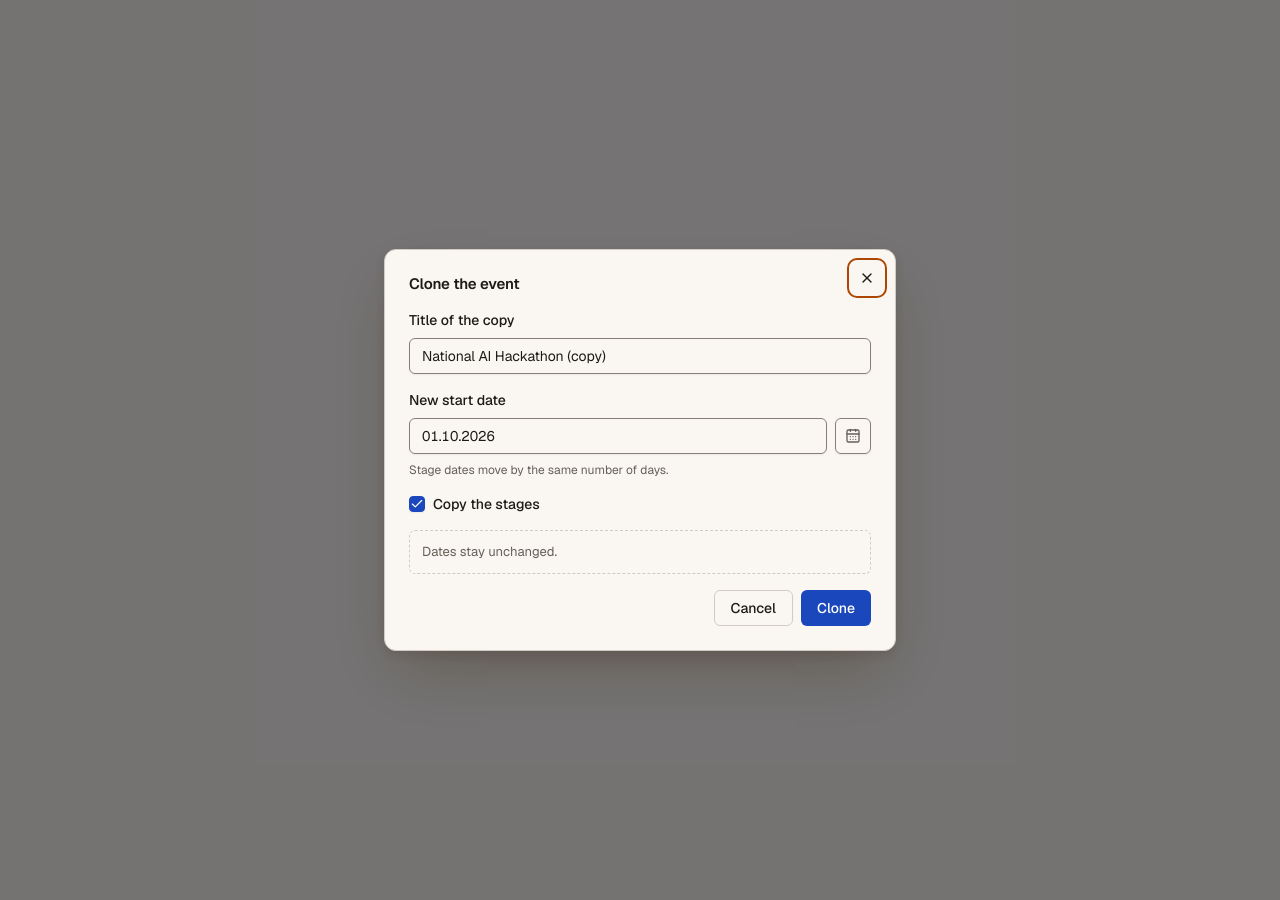
it: CloneEventDialog › reports the shift and the recomputed end date once a new start is chosen
Step 1. Click the button named "open the calendar" → [853, 436], box [835, 418, 871, 454]
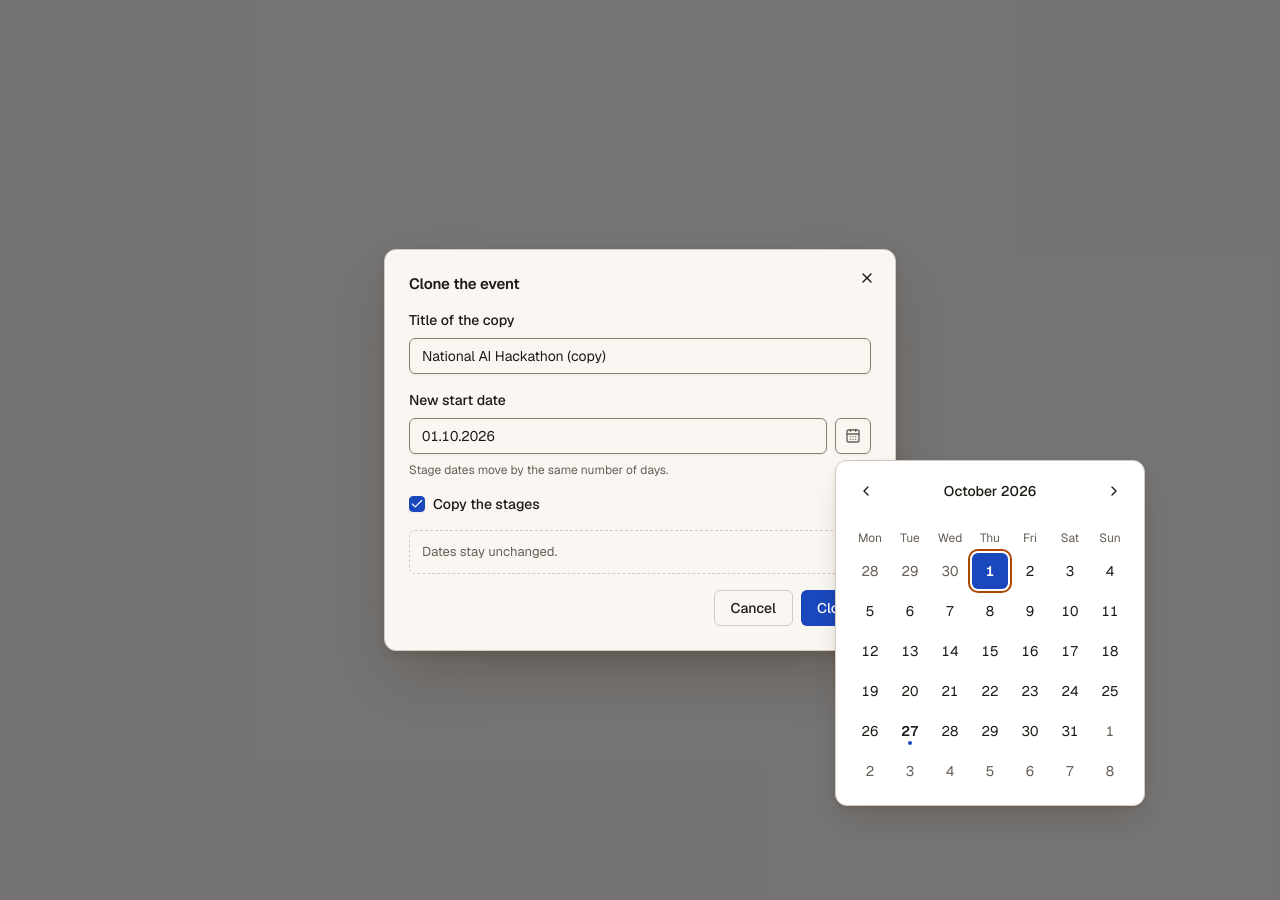
Step 2. Click the button named "October 31, 2026" → [1070, 731], box [1052, 713, 1088, 749]
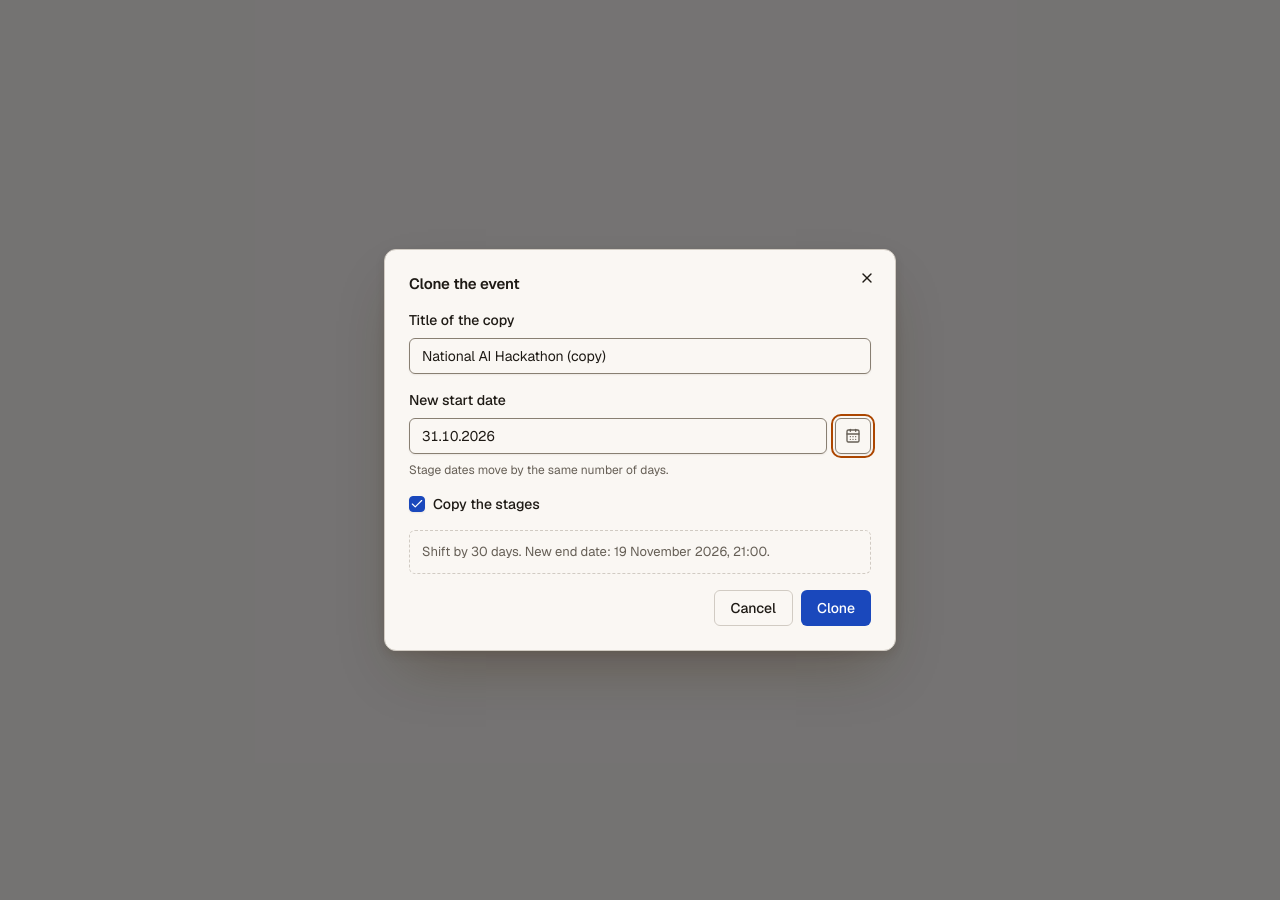
Expected: the text "Shift by 30 days. New end date: 19 November 2026, 21:00." is shown, [409, 530, 871, 574]
